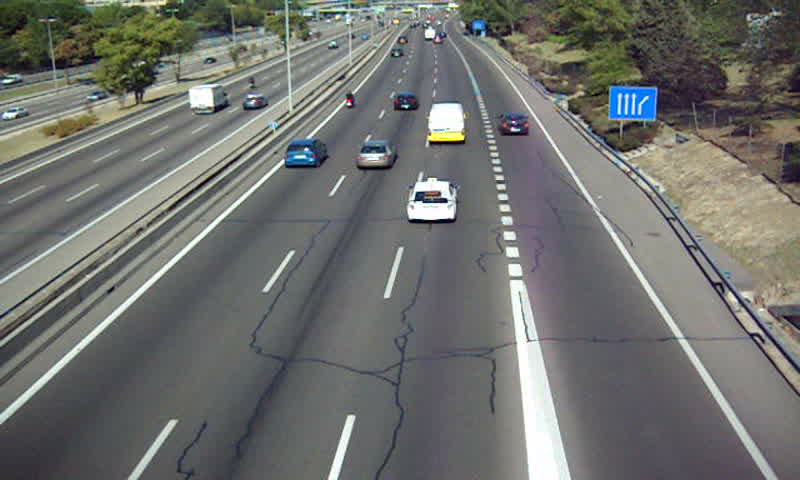car: (407, 180, 457, 220), (283, 139, 327, 168), (357, 142, 394, 167), (498, 113, 531, 137), (392, 94, 417, 111)
motorcycle: (344, 90, 357, 110)
van: (427, 103, 467, 142)
